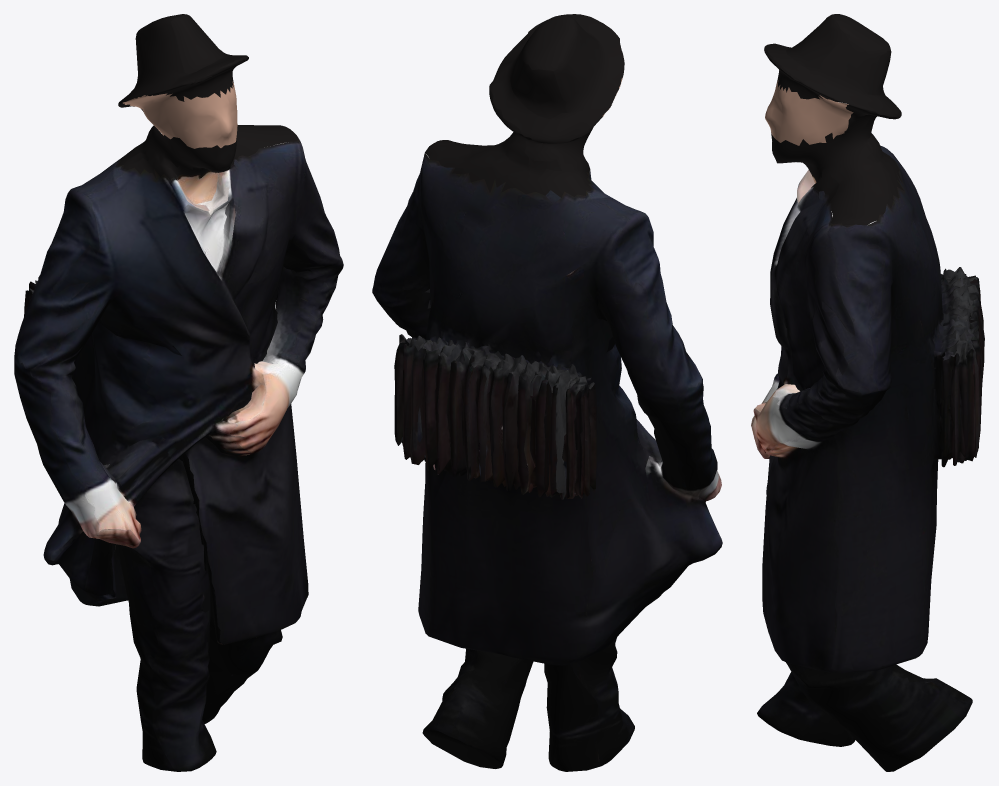
Rendered from hassid.glb.
3 views of the same model, side by side, from view 1: azimuth 30°, elevation 25°; view 2: azimuth 150°, elevation 25°; view 3: azimuth 270°, elevation 25° (orthographic). The views are drawn at different scales.
Visible parts, largest first — view 1: hassid; view 2: hassid; view 3: hassid.
Part boxes in pixels (x1,y1,x2,y2): hassid: (14,14,343,771); hassid: (372,14,722,771); hassid: (751,14,984,771).
Bounding box in the file's own units: 0.4441 × 0.9886 × 0.2884.
3 materials, 1 textured.
